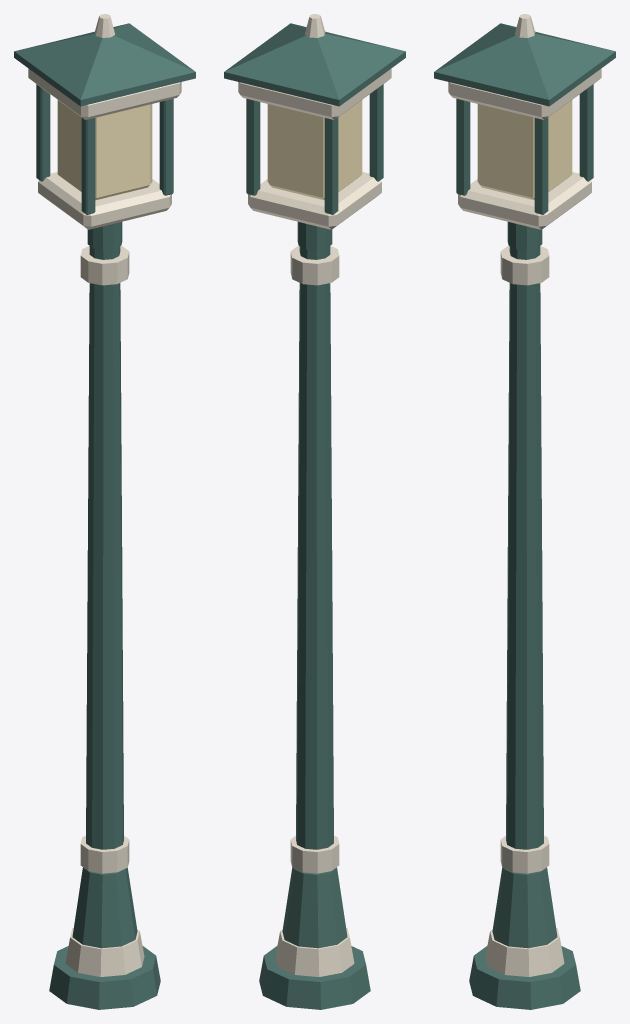
The model's file is streetlamp.glb.
The picture shows the model from 3 angles, left to right: view 1: azimuth 30°, elevation 25°; view 2: azimuth 150°, elevation 25°; view 3: azimuth 330°, elevation 25°; orthographic projection.
Visible parts, largest first — view 1: ModelMesh; view 2: ModelMesh; view 3: ModelMesh.
Part boxes in pixels (<box>): ModelMesh: <box>14,14,195,1009</box>; ModelMesh: <box>224,14,405,1009</box>; ModelMesh: <box>434,14,615,1009</box>.
Size of the model in its own units: 0.56 by 4.5 by 0.56.
